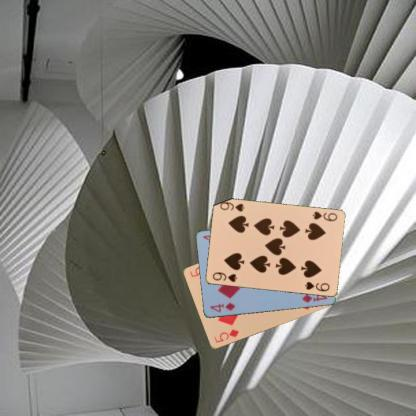4d: (207, 300, 237, 314)
5d: (211, 326, 240, 344)
9s: (310, 209, 338, 223), (210, 270, 238, 283)
